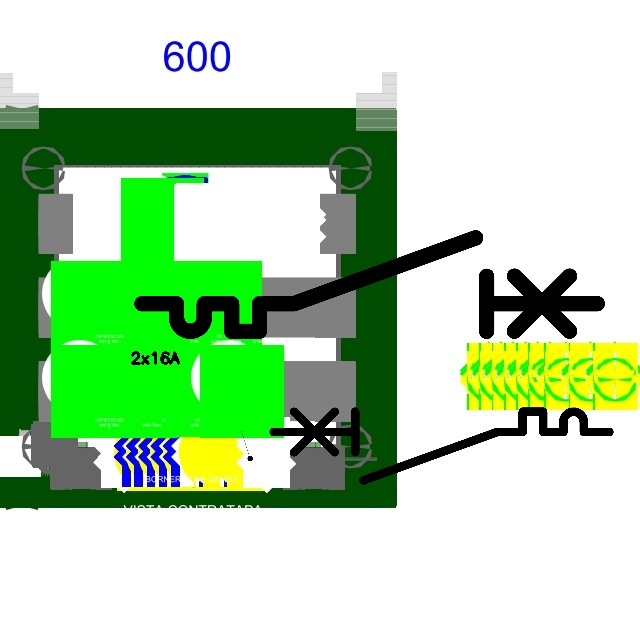interruptor_termomagnetico: (130, 226, 608, 343), (264, 403, 617, 489)
